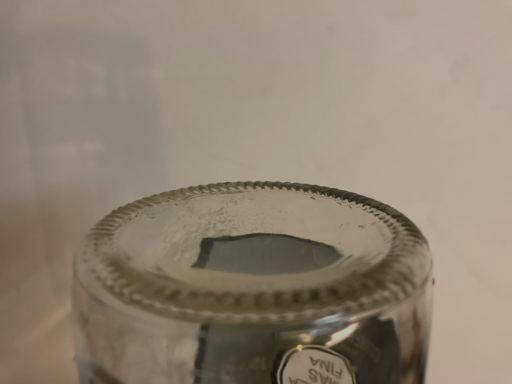glass: (70, 180, 433, 384)
metal: (71, 179, 434, 384)
trash: (72, 179, 433, 384)
